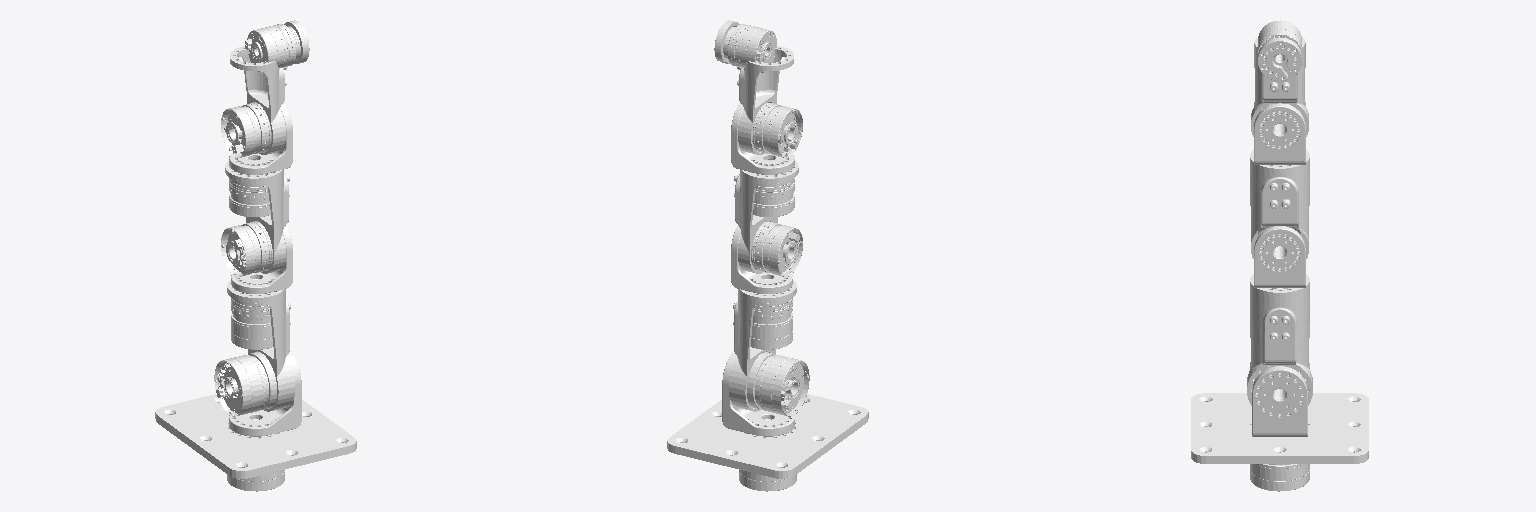
The robot description file, URDF, robot "manipulator":
<?xml version="1.0" encoding="utf-8"?>
<!-- This URDF was automatically created by SolidWorks to URDF Exporter! Originally created by [author] ([email redacted]) 
     Commit Version: 1.6.0-4-g7f85cfe  Build Version: 1.6.7995.38578
     For more information, please see http://wiki.ros.org/sw_urdf_exporter -->
<robot

  name="manipulator">
   <!--将基座与世界坐标系固连，防止基座乱动，注意补偿base_link与link1之间的偏移，值越大越超过地面就好，有点小bug-->
  <link name="world" />
  <joint name="world_joint" type="fixed">
        <parent link="world" />
        <child link="base_link" />
        <origin xyz="0 0 0.1" rpy="0 0 0" />
    </joint>
  <link
    name="base_link">
    <inertial>
      <origin
        xyz="-1.3252E-19 1.3599E-17 -0.0059926"
        rpy="0 0 0" />
      <mass
        value="0.51184" />
      <inertia ixx="10" ixy="-0" ixz="0" iyy="10" iyz="0" izz="10" />
    </inertial>
    <visual>
      <origin
        xyz="0 0 0"
        rpy="0 0 0" />
      <geometry>
        <mesh
          filename="package://manipulator/meshes/base_link.STL" />
      </geometry>
      <material
        name="">
        <color
          rgba="1 1 1 1" />
      </material>
    </visual>
    <collision>
      <origin
        xyz="0 0 0"
        rpy="0 0 0" />
      <geometry>
        <mesh
          filename="package://manipulator/meshes/base_link.STL" />
      </geometry>
    </collision>
  </link>
  <link
    name="link1">
    <inertial>
      <origin
        xyz="0.030386 -1.2709E-10 -0.037371"
        rpy="0 0 0" />
      <mass
        value="0.11922" />
      <inertia ixx="10" ixy="-0" ixz="0" iyy="10" iyz="0" izz="10" />
    </inertial>
    <visual>
      <origin
        xyz="0 0 0"
        rpy="0 0 0" />
      <geometry>
        <mesh
          filename="package://manipulator/meshes/link1.STL" />
      </geometry>
      <material
        name="">
        <color
          rgba="1 1 1 1" />
      </material>
    </visual>
    <collision>
      <origin
        xyz="0 0 0"
        rpy="0 0 0" />
      <geometry>
        <mesh
          filename="package://manipulator/meshes/link1.STL" />
      </geometry>
    </collision>
  </link>
  <joint
    name="joint1"
    type="revolute">
    <origin
      xyz="0 0 0.068"
      rpy="0 0 0" />
    <parent
      link="base_link" />
    <child
      link="link1" />
    <axis
      xyz="0 0 1" />
    <limit
      lower="-3.14"
      upper="3.14"
      effort="1000"
      velocity="1000" />
  </joint>
  <link
    name="link2">
    <inertial>
      <origin
        xyz="0.06725 7.8023E-07 -0.023323"
        rpy="0 0 0" />
      <mass
        value="0.13979" />
      <inertia ixx="10" ixy="-0" ixz="0" iyy="10" iyz="0" izz="10" />
    </inertial>
    <visual>
      <origin
        xyz="0 0 0"
        rpy="0 0 0" />
      <geometry>
        <mesh
          filename="package://manipulator/meshes/link2.STL" />
      </geometry>
      <material
        name="">
        <color
          rgba="1 1 1 1" />
      </material>
    </visual>
    <collision>
      <origin
        xyz="0 0 0"
        rpy="0 0 0" />
      <geometry>
        <mesh
          filename="package://manipulator/meshes/link2.STL" />
      </geometry>
    </collision>
  </link>
  <joint
    name="joint2"
    type="revolute">
    <origin
      xyz="0.0005 0 0"
      rpy="0 -1.5708 0" />
    <parent
      link="link1" />
    <child
      link="link2" />
    <axis
      xyz="0 0 1" />
    <limit
      lower="-1.55"
      upper="1.55"
      effort="1000"
      velocity="1000" />
  </joint>
  <link
    name="link3">
    <inertial>
      <origin
        xyz="0.020827 4.4786E-09 -0.029773"
        rpy="0 0 0" />
      <mass
        value="0.084191" />
      <inertia ixx="10" ixy="-0" ixz="0" iyy="10" iyz="0" izz="10" />
    </inertial>
    <visual>
      <origin
        xyz="0 0 0"
        rpy="0 0 0" />
      <geometry>
        <mesh
          filename="package://manipulator/meshes/link3.STL" />
      </geometry>
      <material
        name="">
        <color
          rgba="1 1 1 1" />
      </material>
    </visual>
    <collision>
      <origin
        xyz="0 0 0"
        rpy="0 0 0" />
      <geometry>
        <mesh
          filename="package://manipulator/meshes/link3.STL" />
      </geometry>
    </collision>
  </link>
  <joint
    name="joint3"
    type="revolute">
    <origin
      xyz="0.206 0 0"
      rpy="0 1.5708 0" />
    <parent
      link="link2" />
    <child
      link="link3" />
    <axis
      xyz="0 0 1" />
    <limit
      lower="-3.14"
      upper="3.14"
      effort="1000"
      velocity="1000" />
  </joint>
  <link
    name="link4">
    <inertial>
      <origin
        xyz="0.060448 -2.029E-06 -0.021637"
        rpy="0 0 0" />
      <mass
        value="0.12668" />
      <inertia ixx="10" ixy="-0" ixz="0" iyy="10" iyz="0" izz="10" />
    </inertial>
    <visual>
      <origin
        xyz="0 0 0"
        rpy="0 0 0" />
      <geometry>
        <mesh
          filename="package://manipulator/meshes/link4.STL" />
      </geometry>
      <material
        name="">
        <color
          rgba="1 1 1 1" />
      </material>
    </visual>
    <collision>
      <origin
        xyz="0 0 0"
        rpy="0 0 0" />
      <geometry>
        <mesh
          filename="package://manipulator/meshes/link4.STL" />
      </geometry>
    </collision>
  </link>
  <joint
    name="joint4"
    type="revolute">
    <origin
      xyz="-0.003 0 0"
      rpy="0 -1.5708 0" />
    <parent
      link="link3" />
    <child
      link="link4" />
    <axis
      xyz="0 0 1" />
    <limit
      lower="-1.3"
      upper="1.3"
      effort="1000"
      velocity="1000" />
  </joint>
  <link
    name="link5">
    <inertial>
      <origin
        xyz="0.022751 -2.3087E-06 -0.029741"
        rpy="0 0 0" />
      <mass
        value="0.085932" />
      <inertia ixx="10" ixy="-0" ixz="0" iyy="10" iyz="0" izz="10" />
    </inertial>
    <visual>
      <origin
        xyz="0 0 0"
        rpy="0 0 0" />
      <geometry>
        <mesh
          filename="package://manipulator/meshes/link5.STL" />
      </geometry>
      <material
        name="">
        <color
          rgba="1 1 1 1" />
      </material>
    </visual>
    <collision>
      <origin
        xyz="0 0 0"
        rpy="0 0 0" />
      <geometry>
        <mesh
          filename="package://manipulator/meshes/link5.STL" />
      </geometry>
    </collision>
  </link>
  <joint
    name="joint5"
    type="revolute">
    <origin
      xyz="0.182 0 0"
      rpy="0 1.5708 0" />
    <parent
      link="link4" />
    <child
      link="link5" />
    <axis
      xyz="0 0 1" />
    <limit
      lower="-3.14"
      upper="3.14"
      effort="1000"
      velocity="1000" />
  </joint>
  <link
    name="link6">
    <inertial>
      <origin
        xyz="0.050634 2.0202E-06 -0.019016"
        rpy="0 0 0" />
      <mass
        value="0.091478" />
      <inertia ixx="10" ixy="-0" ixz="0" iyy="10" iyz="0" izz="10" />
    </inertial>
    <visual>
      <origin
        xyz="0 0 0"
        rpy="0 0 0" />
      <geometry>
        <mesh
          filename="package://manipulator/meshes/link6.STL" />
      </geometry>
      <material
        name="">
        <color
          rgba="1 1 1 1" />
      </material>
    </visual>
    <collision>
      <origin
        xyz="0 0 0"
        rpy="0 0 0" />
      <geometry>
        <mesh
          filename="package://manipulator/meshes/link6.STL" />
      </geometry>
    </collision>
  </link>
  <joint
    name="joint6"
    type="revolute">
    <origin
      xyz="0 0 0"
      rpy="0 -1.5708 0" />
    <parent
      link="link5" />
    <child
      link="link6" />
    <axis
      xyz="0 0 1" />
    <limit
      lower="-1.55"
      upper="1.55"
      effort="1000"
      velocity="1000" />
  </joint>
  <link
    name="link7">
    <inertial>
      <origin
        xyz="4.1157E-05 7.5281E-05 0.023371"
        rpy="0 0 0" />
      <mass
        value="0.19202" />
      <inertia ixx="10" ixy="-0" ixz="0" iyy="10" iyz="0" izz="10" />
    </inertial>
    <visual>
      <origin
        xyz="0 0 0"
        rpy="0 0 0" />
      <geometry>
        <mesh
          filename="package://manipulator/meshes/link7.STL" />
      </geometry>
      <material
        name="">
        <color
          rgba="1 1 1 1" />
      </material>
    </visual>
    <collision>
      <origin
        xyz="0 0 0"
        rpy="0 0 0" />
      <geometry>
        <mesh
          filename="package://manipulator/meshes/link7.STL" />
      </geometry>
    </collision>
  </link>
  <joint
    name="joint7"
    type="revolute">
    <origin
      xyz="0.1161 0 0"
      rpy="0 1.5708 0" />
    <parent
      link="link6" />
    <child
      link="link7" />
    <axis
      xyz="0 0 1" />
    <limit
      lower="-3.14"
      upper="3.14"
      effort="1000"
      velocity="1000" />
  </joint>

  <transmission name="trans_joint1">
        <type>transmission_interface/SimpleTransmission</type>
        <joint name="joint1">
            <hardwareInterface>hardware_interface/PositionJointInterface</hardwareInterface>
        </joint>
        <actuator name="joint1_motor">
            <hardwareInterface>hardware_interface/PositionJointInterface</hardwareInterface>
            <mechanicalReduction>1</mechanicalReduction>
        </actuator>
    </transmission>
    <transmission name="trans_joint2">
        <type>transmission_interface/SimpleTransmission</type>
        <joint name="joint2">
            <hardwareInterface>hardware_interface/PositionJointInterface</hardwareInterface>
        </joint>
        <actuator name="joint2_motor">
            <hardwareInterface>hardware_interface/PositionJointInterface</hardwareInterface>
            <mechanicalReduction>1</mechanicalReduction>
        </actuator>
    </transmission>
    <transmission name="trans_joint3">
        <type>transmission_interface/SimpleTransmission</type>
        <joint name="joint3">
            <hardwareInterface>hardware_interface/PositionJointInterface</hardwareInterface>
        </joint>
        <actuator name="joint3_motor">
            <hardwareInterface>hardware_interface/PositionJointInterface</hardwareInterface>
            <mechanicalReduction>1</mechanicalReduction>
        </actuator>
    </transmission>
    <transmission name="trans_joint4">
        <type>transmission_interface/SimpleTransmission</type>
        <joint name="joint4">
            <hardwareInterface>hardware_interface/PositionJointInterface</hardwareInterface>
        </joint>
        <actuator name="joint4_motor">
            <hardwareInterface>hardware_interface/PositionJointInterface</hardwareInterface>
            <mechanicalReduction>1</mechanicalReduction>
        </actuator>
    </transmission>
    <transmission name="trans_joint5">
        <type>transmission_interface/SimpleTransmission</type>
        <joint name="joint5">
            <hardwareInterface>hardware_interface/PositionJointInterface</hardwareInterface>
        </joint>
        <actuator name="joint5_motor">
            <hardwareInterface>hardware_interface/PositionJointInterface</hardwareInterface>
            <mechanicalReduction>1</mechanicalReduction>
        </actuator>
    </transmission>
    <transmission name="trans_joint6">
        <type>transmission_interface/SimpleTransmission</type>
        <joint name="joint6">
            <hardwareInterface>hardware_interface/PositionJointInterface</hardwareInterface>
        </joint>
        <actuator name="joint6_motor">
            <hardwareInterface>hardware_interface/PositionJointInterface</hardwareInterface>
            <mechanicalReduction>1</mechanicalReduction>
        </actuator>
    </transmission>
    <transmission name="trans_joint7">
        <type>transmission_interface/SimpleTransmission</type>
        <joint name="joint7">
            <hardwareInterface>hardware_interface/PositionJointInterface</hardwareInterface>
        </joint>
        <actuator name="joint7_motor">
            <hardwareInterface>hardware_interface/PositionJointInterface</hardwareInterface>
            <mechanicalReduction>1</mechanicalReduction>
        </actuator>
    </transmission>
    <gazebo>
        <plugin name="gazebo_ros_control" filename="libgazebo_ros_control.so">
            <robotNamespace>/</robotNamespace>
            <robotSimType>gazebo_ros_control/DefaultRobotHWSim</robotSimType>
            <legacyModeNS>true</legacyModeNS>
        </plugin>
    </gazebo>

</robot>

--- What the picture shows (computed from the rendered views, not written in the file) ---
Views: 3 orthographic renders of the robot side by side, from view 1: azimuth 30°, elevation 25°; view 2: azimuth 150°, elevation 25°; view 3: azimuth 270°, elevation 25°.
Robot: manipulator — 9 links, 8 joints (7 revolute, 1 fixed); root link world; default pose: all joints at 0.
Links seen in each view (by area): view 1: base_link, link2, link6, link4, link3, link5, link1, link7; view 2: base_link, link2, link6, link4, link3, link5, link1, link7; view 3: base_link, link2, link1, link4, link3, link5, link7, link6.
Boxes of the visible links, <box> form: base_link: <box>155,394,356,478</box>; link2: <box>214,280,294,416</box>; link6: <box>221,46,286,157</box>; link4: <box>221,161,289,276</box>; link3: <box>231,226,292,349</box>; link5: <box>229,103,292,216</box>; link1: <box>227,352,301,491</box>; link7: <box>245,20,309,72</box>; base_link: <box>667,394,868,478</box>; link2: <box>729,280,809,416</box>; link6: <box>737,46,802,157</box>; link4: <box>734,161,802,276</box>; link3: <box>731,226,792,349</box>; link5: <box>731,103,794,216</box>; link1: <box>722,352,796,491</box>; link7: <box>714,20,776,72</box>; base_link: <box>1191,393,1368,463</box>; link2: <box>1247,274,1312,412</box>; link1: <box>1250,366,1309,491</box>; link4: <box>1250,150,1309,258</box>; link3: <box>1254,226,1305,288</box>; link5: <box>1254,103,1305,164</box>; link7: <box>1258,20,1301,80</box>; link6: <box>1251,37,1308,145</box>.
Bounding box of the posed robot: 0.2 × 0.24 × 0.6871 m (x, y, z).
Meshes: 8 distinct files referenced, 8 mesh visuals loaded (8 binary STL).
